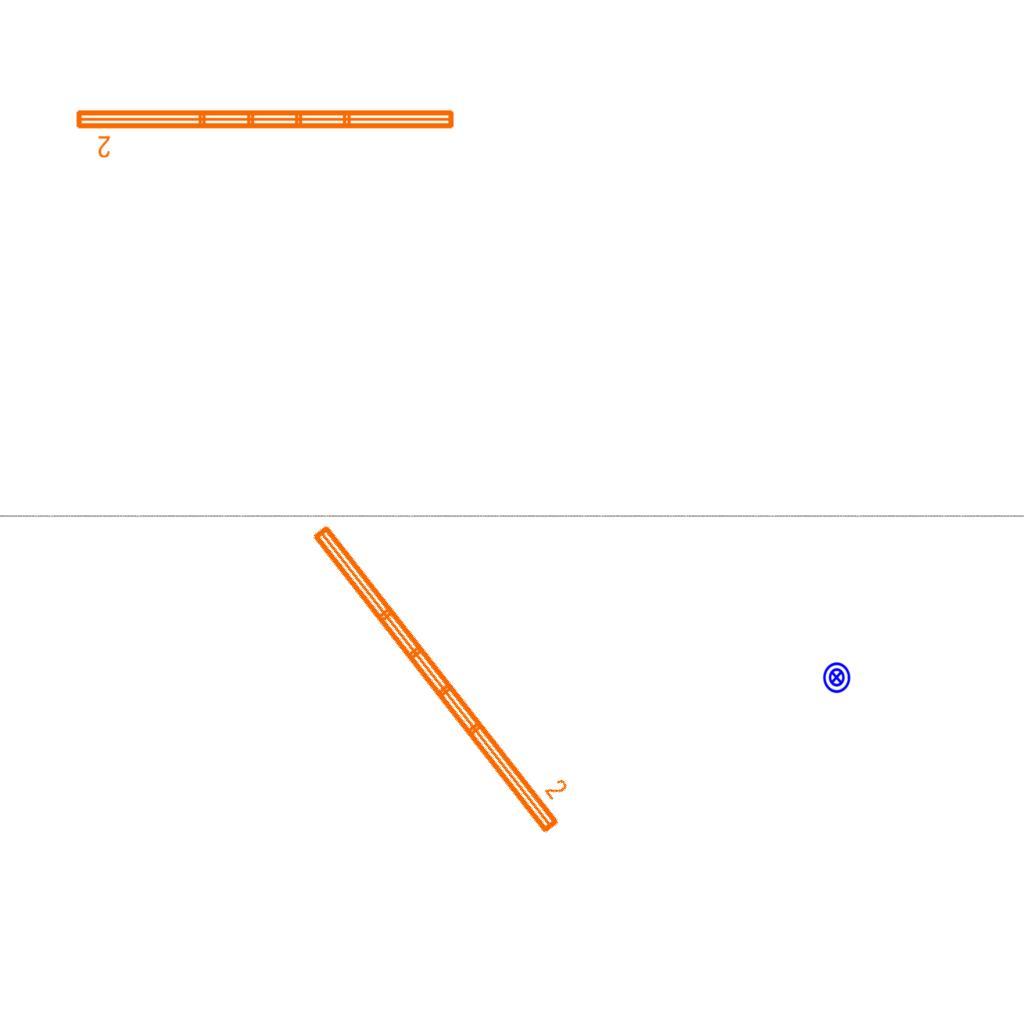Ambulanz_Pendelleuchte_LED: (304, 501, 587, 841), (72, 104, 459, 160)
Taster_beleuchtet: (820, 661, 853, 694)
